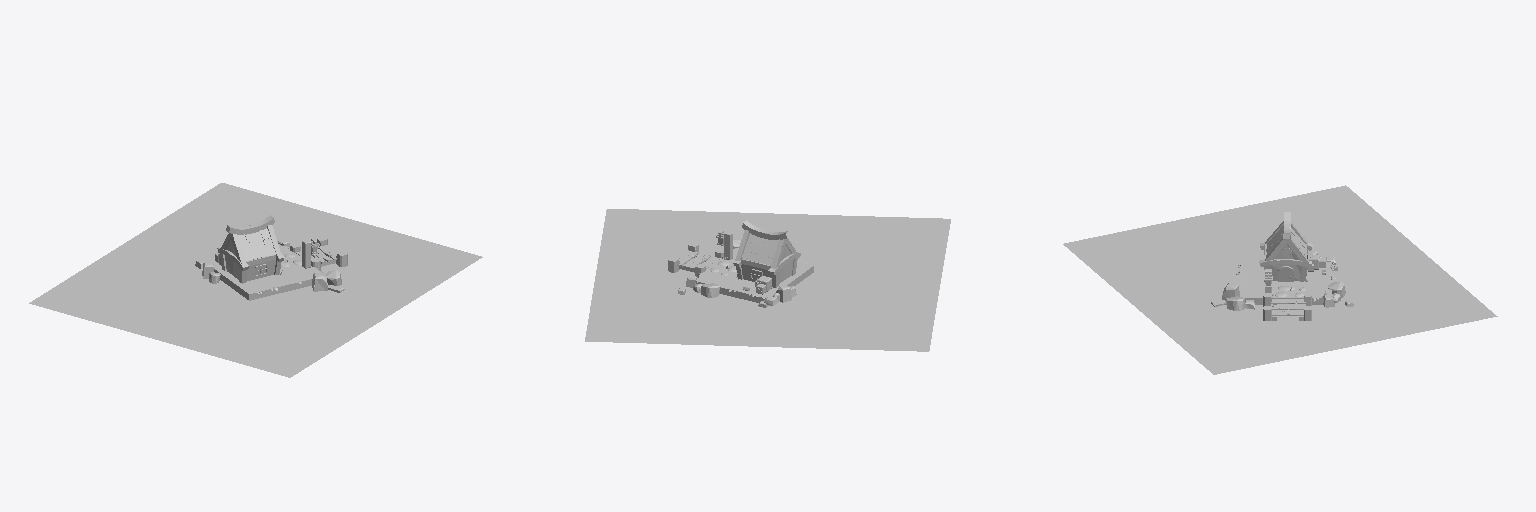
File: Casa.obj
3 renders of one model, left to right at view 1: azimuth 30°, elevation 25°; view 2: azimuth 150°, elevation 25°; view 3: azimuth 270°, elevation 25°, orthographic.
Visible parts, largest first — view 1: Plano_Plano.002, SUELO_Cubo.044, PAREDES_Cubo; view 2: Plano_Plano.002, SUELO_Cubo.044; view 3: Plano_Plano.002, SUELO_Cubo.044.
Boxes of the visible parts, x1,y1,x2,y2 form: Plano_Plano.002: [29, 183, 482, 377]; SUELO_Cubo.044: [206, 244, 321, 300]; PAREDES_Cubo: [225, 231, 275, 281]; Plano_Plano.002: [585, 209, 950, 351]; SUELO_Cubo.044: [695, 248, 813, 302]; Plano_Plano.002: [1063, 185, 1497, 374]; SUELO_Cubo.044: [1241, 261, 1331, 304].
Size of the model in its own units: 16.49 by 2.64 by 15.99.